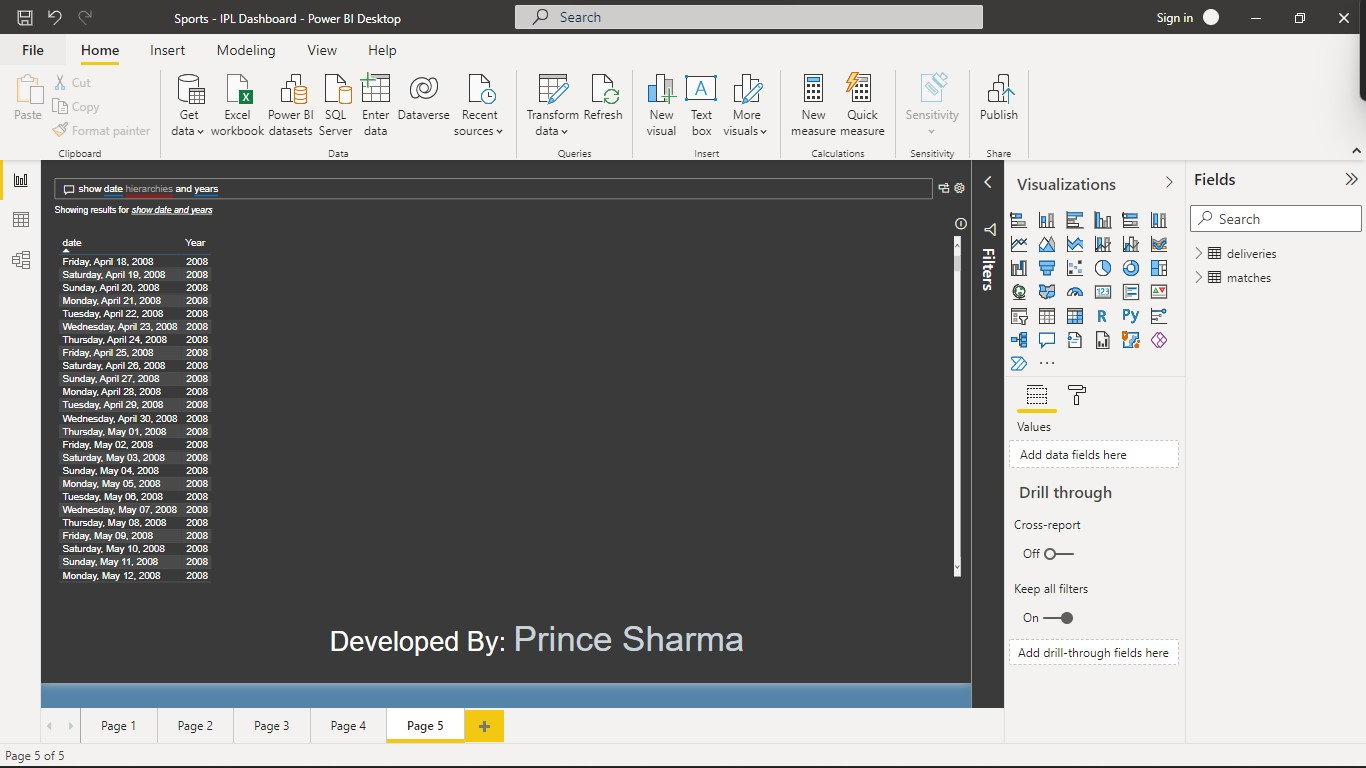

The page's visual inventory and layout, read from the dashboard file:
{"tool":"powerbi","page":{"name":"Page 5","canvas":[1280,720],"ordinal":4},"visuals":[{"type":"qnaVisual","box":[9.9,0,1269.6,596.4],"z":0},{"type":"textbox","box":[392.3,626.2,615.2,64.7],"z":1000}]}

Visuals, with their boxes on the page's 1280x720 design canvas (x1, y1, x2, y2). These are canvas units, not pixel positions in the 1366x768 screenshot, which may show the page scaled, cropped or inside an application window:
qnaVisual: <box>10,0,1280,596</box>
textbox: <box>392,626,1008,691</box>
